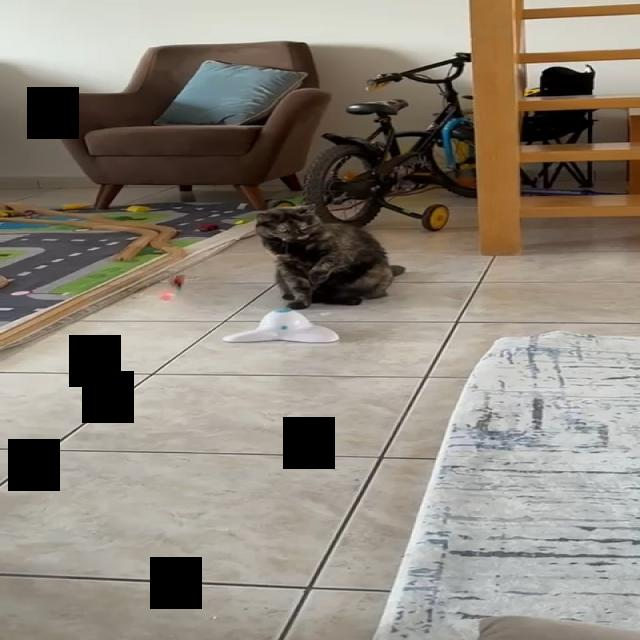authorized: (254, 202, 406, 310)
